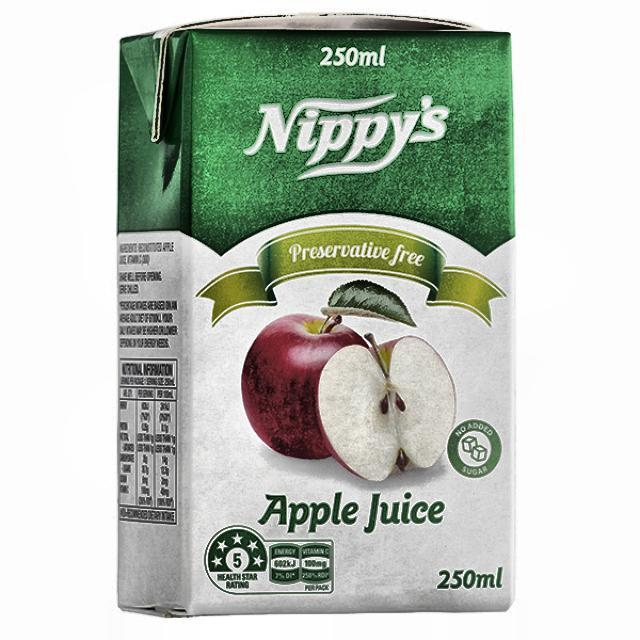cardboard: (115, 12, 516, 616)
